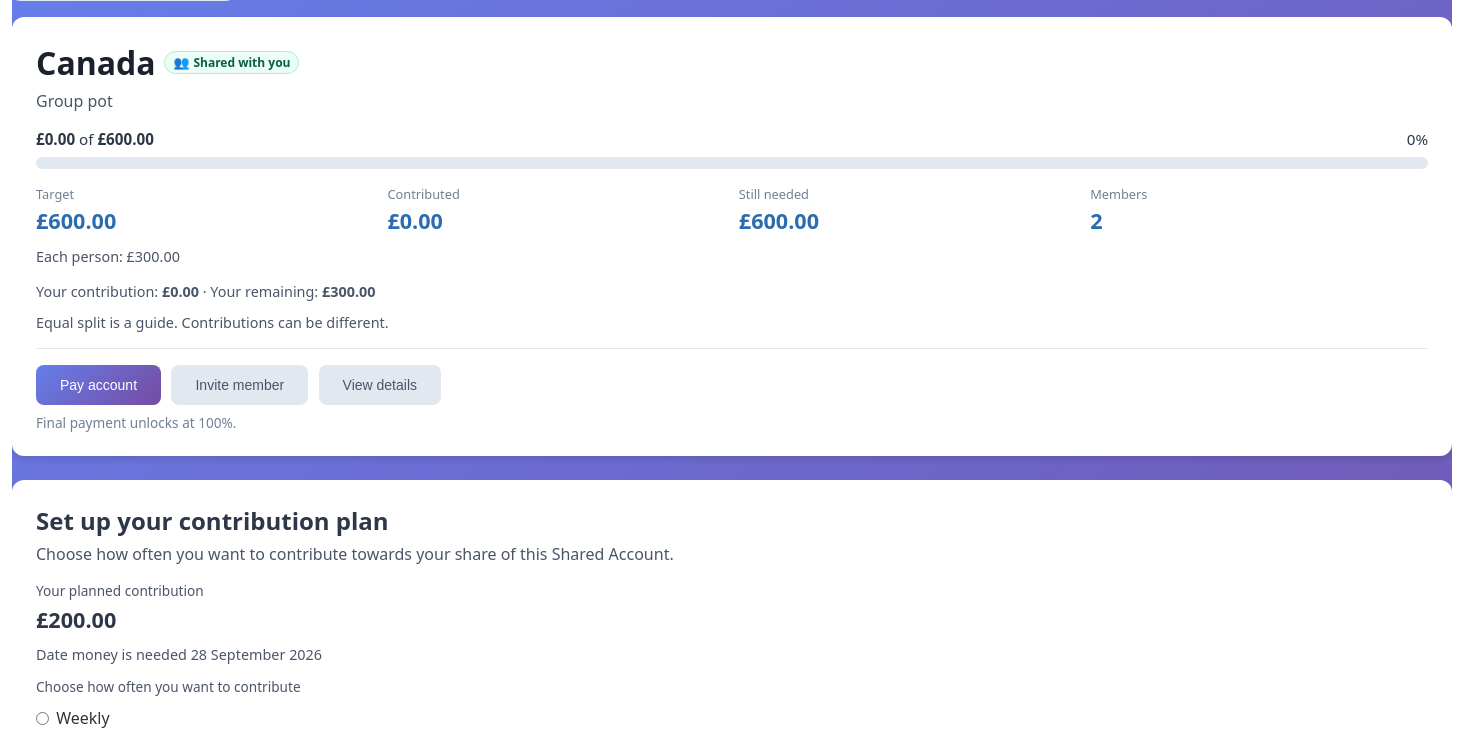
Test case: SharedAccountDetail invited member contribution plan › does not create a plan when the member chooses Not now
What coordinates should you click on to do the following:
click the radio button labelled "Weekly"
I would click on:
 (42, 718)
Its box is top-left (36, 712), bottom-right (49, 725).
(page scrolled)
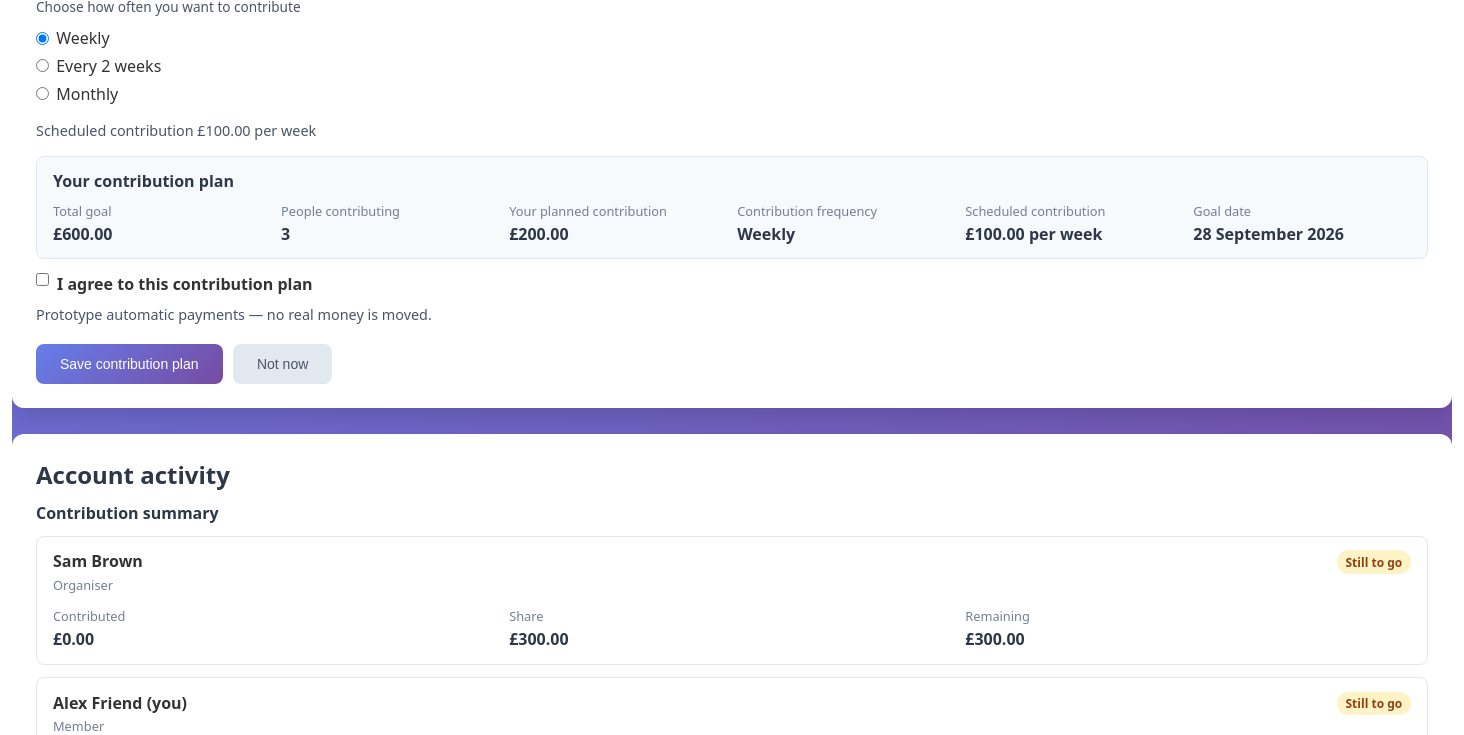
What coordinates should you click on to do the following:
click the button "Not now"
I would click on:
 (283, 364)
Its box is top-left (233, 344), bottom-right (332, 384).
(page scrolled)
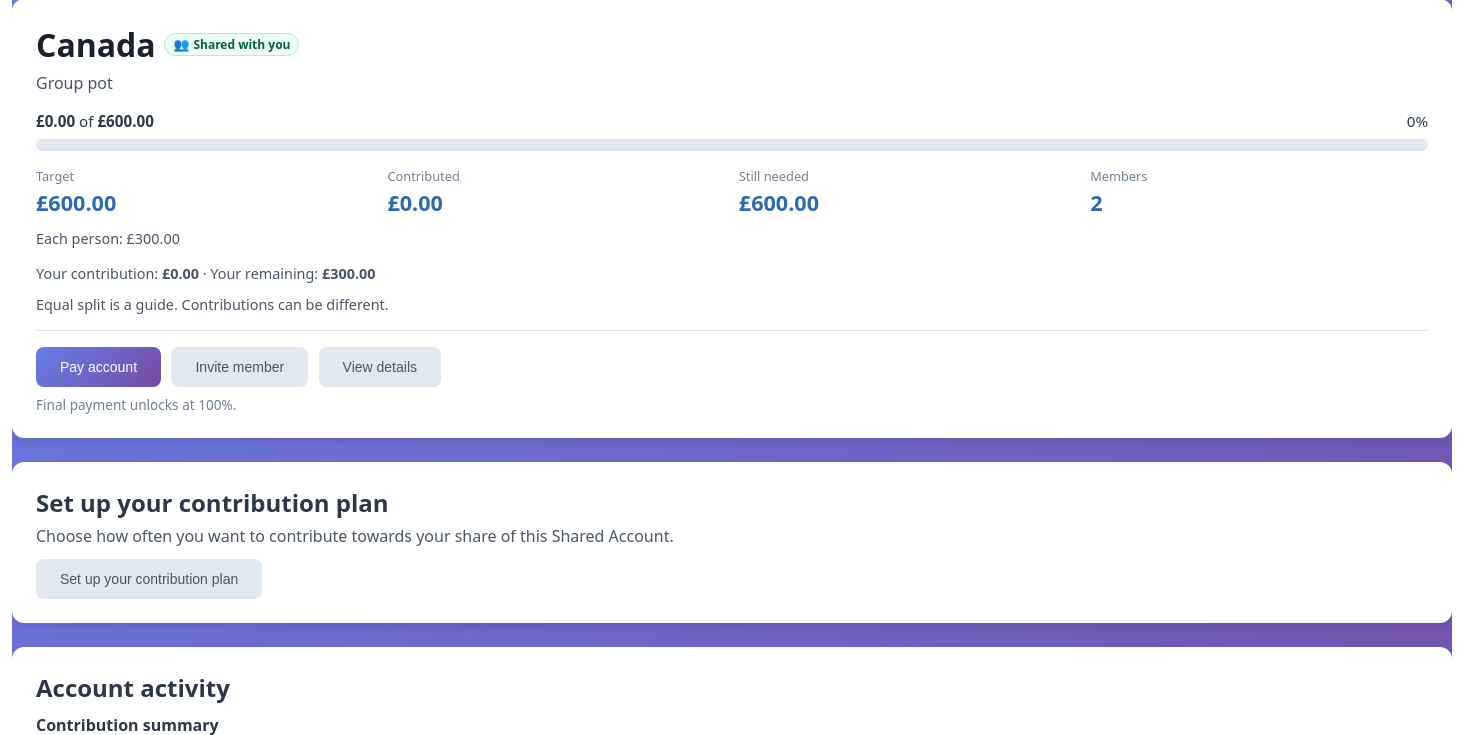
Expected: the button "Pay account" is shown, top-left (36, 347), bottom-right (161, 387)
Now the button "Set up your contribution plan" is shown, box top-left (36, 559), bottom-right (262, 599)
Now the label "Weekly" is gone
